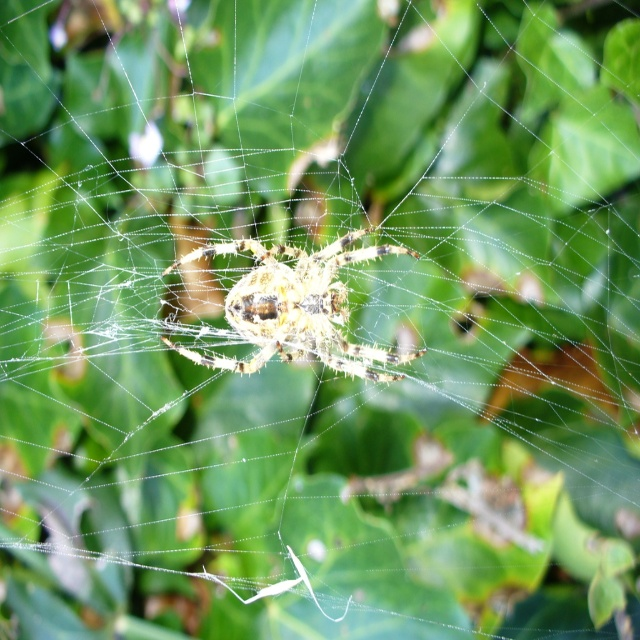Spider: (161, 225, 427, 386)
